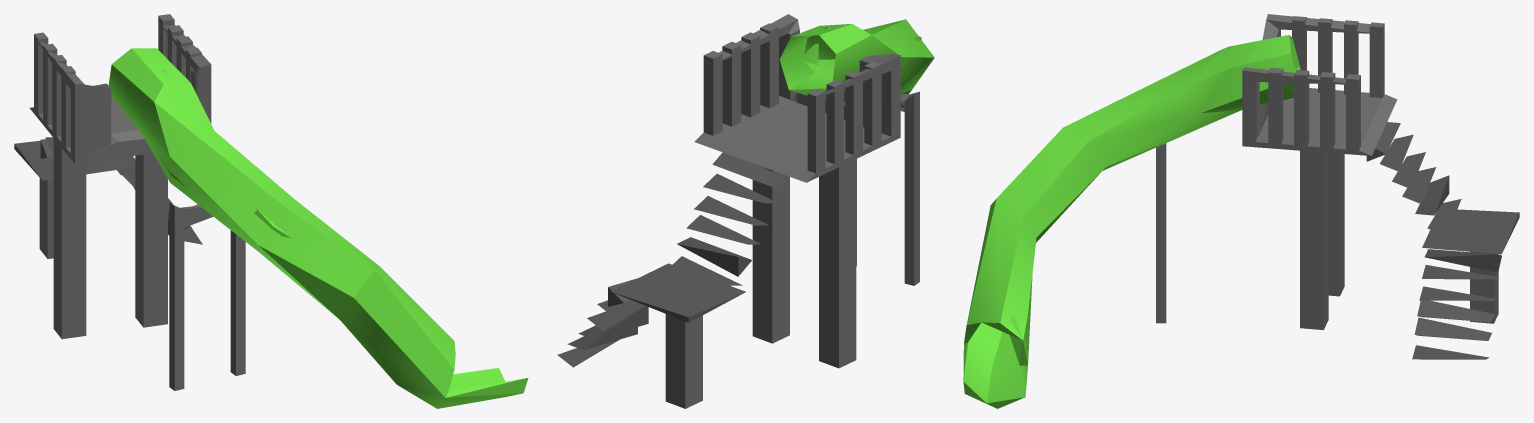
File: water Slide.fbx
3 views of the same model, side by side, from view 1: azimuth 30°, elevation 25°; view 2: azimuth 150°, elevation 25°; view 3: azimuth 270°, elevation 25° (orthographic). The views are drawn at different scales.
Visible parts, largest first — view 1: Cylinder, Cube.002; view 2: Cube.002, Cylinder; view 3: Cube.002, Cylinder.
Boxes of the visible parts, x1,y1,x2,y2 form: Cylinder: [108, 48, 528, 408]; Cube.002: [14, 14, 245, 390]; Cube.002: [557, 14, 919, 408]; Cylinder: [779, 19, 934, 96]; Cube.002: [1156, 14, 1519, 359]; Cylinder: [963, 35, 1300, 408].
Bounding box in the file's own units: 600 × 563 × 1036.
